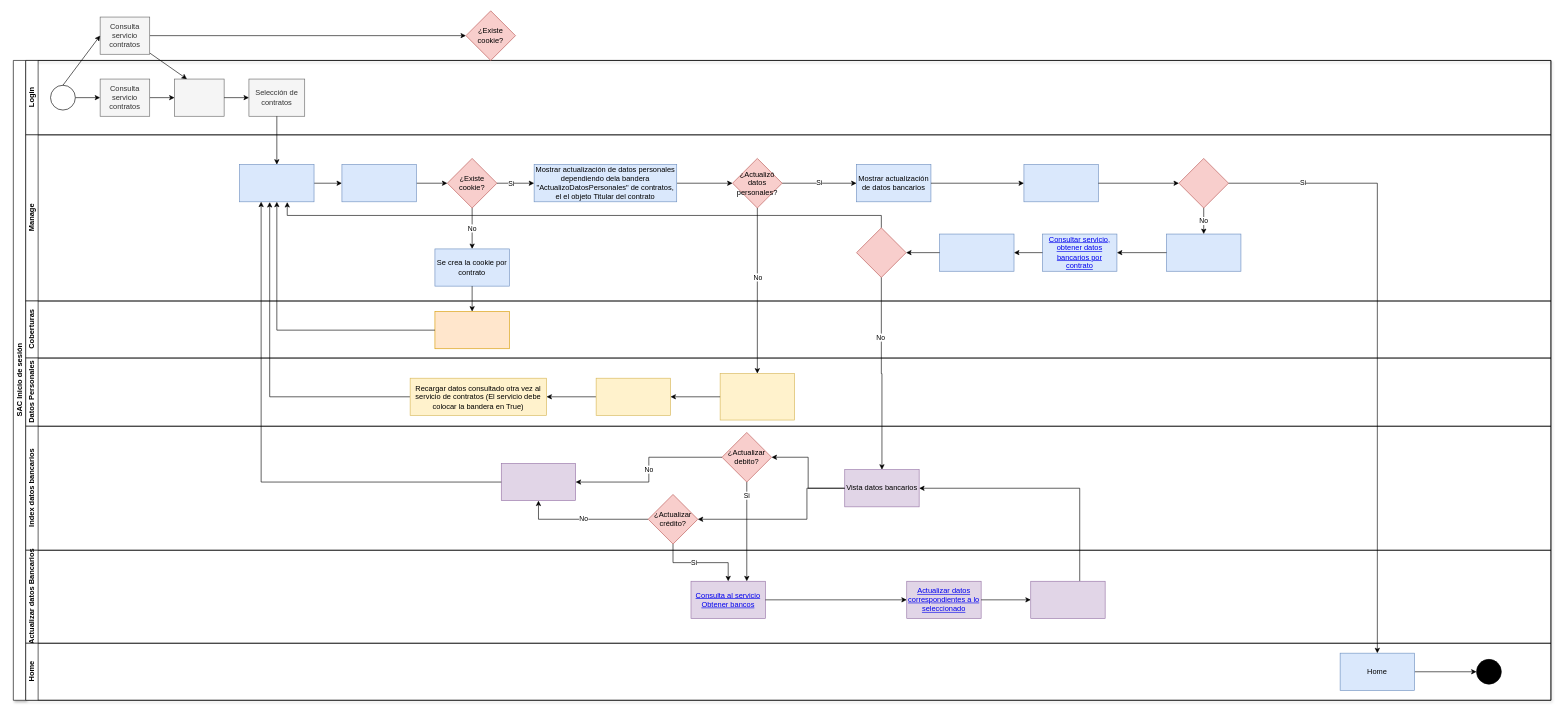
The diagram is 1566 pixels wide and 715 high, and some of its shapes have lost their labels. Each missing label, with the centre of its shape:
Actualizo el estado de la bandera a True en el contrato actual: pixel 1203 252
Botón continuar: pixel 538 482
Llamar al servicio catálogos para obtener preferencia de contacto "CANCODE": pixel 757 396
Llenar datos personales: pixel 633 396
Mostrar coberturas dependiendo estado de cookie: pixel 378 183
Mostrar Onboarding: pixel 199 97
Mostrar pantalla coberturas: pixel 471 330
Pantalla de éxito registro datos: pixel 1067 599
Revisar bandera "Actualizo Datos Bancarios": pixel 976 252
Revisar bandera "Interna" del contrato "A visitado servicio datos bancarios": pixel 1060 183
Routing despues de seleccionar el contrato: pixel 276 183
¿A visitado servicio?: pixel 1203 183
¿Actualizó DatosBancarios?: pixel 881 252
